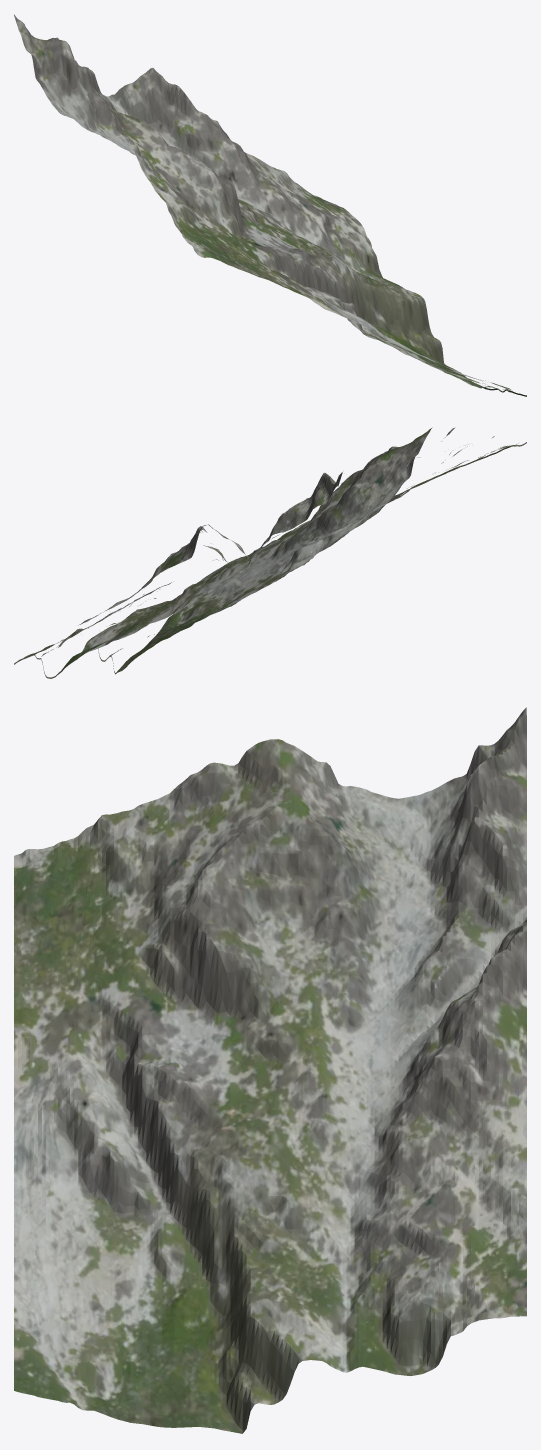
3 views of the same model, one above another, from view 1: azimuth 30°, elevation 25°; view 2: azimuth 150°, elevation 25°; view 3: azimuth 270°, elevation 25° (orthographic). The views are drawn at different scales.
Size of the model in its own units: 250 by 261 by 241.
Materials: 1 (1 with a texture image).
